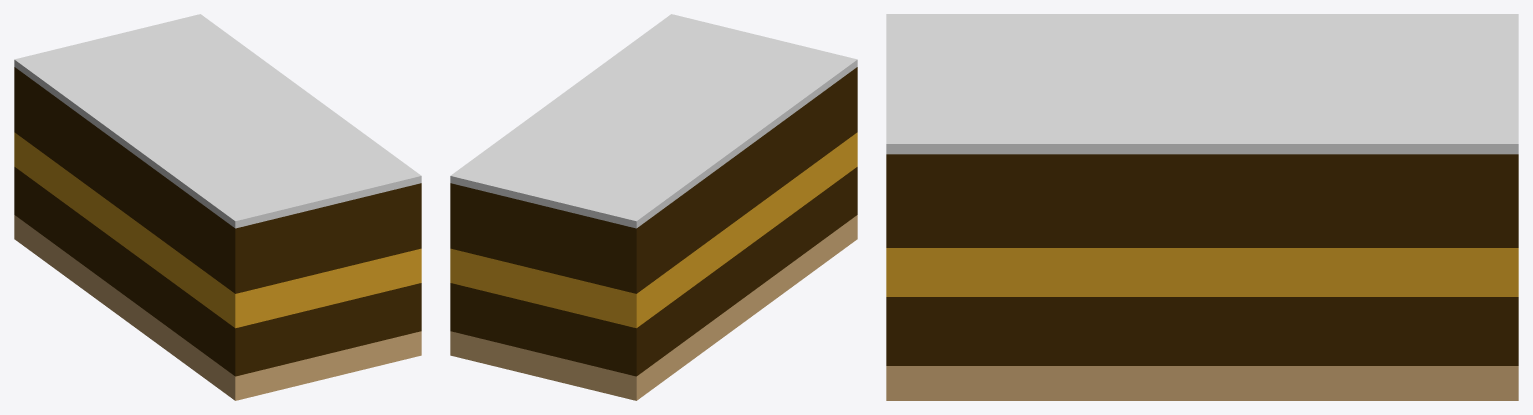
Rendered from C_Chocolate_Cake_2.fbx.
3 renders of one model, left to right at view 1: azimuth 30°, elevation 25°; view 2: azimuth 150°, elevation 25°; view 3: azimuth 270°, elevation 25°, orthographic. The views are drawn at different scales.
Parts seen in each view (by area): view 1: C_Chocolate_Cake_2; view 2: C_Chocolate_Cake_2; view 3: C_Chocolate_Cake_2.
Part boxes in pixels (x1,y1,x2,y2): C_Chocolate_Cake_2: (14, 14, 421, 400); C_Chocolate_Cake_2: (450, 14, 857, 400); C_Chocolate_Cake_2: (886, 14, 1518, 400).
Bounding box in the file's own units: 44.61 × 91.72 × 41.12.
